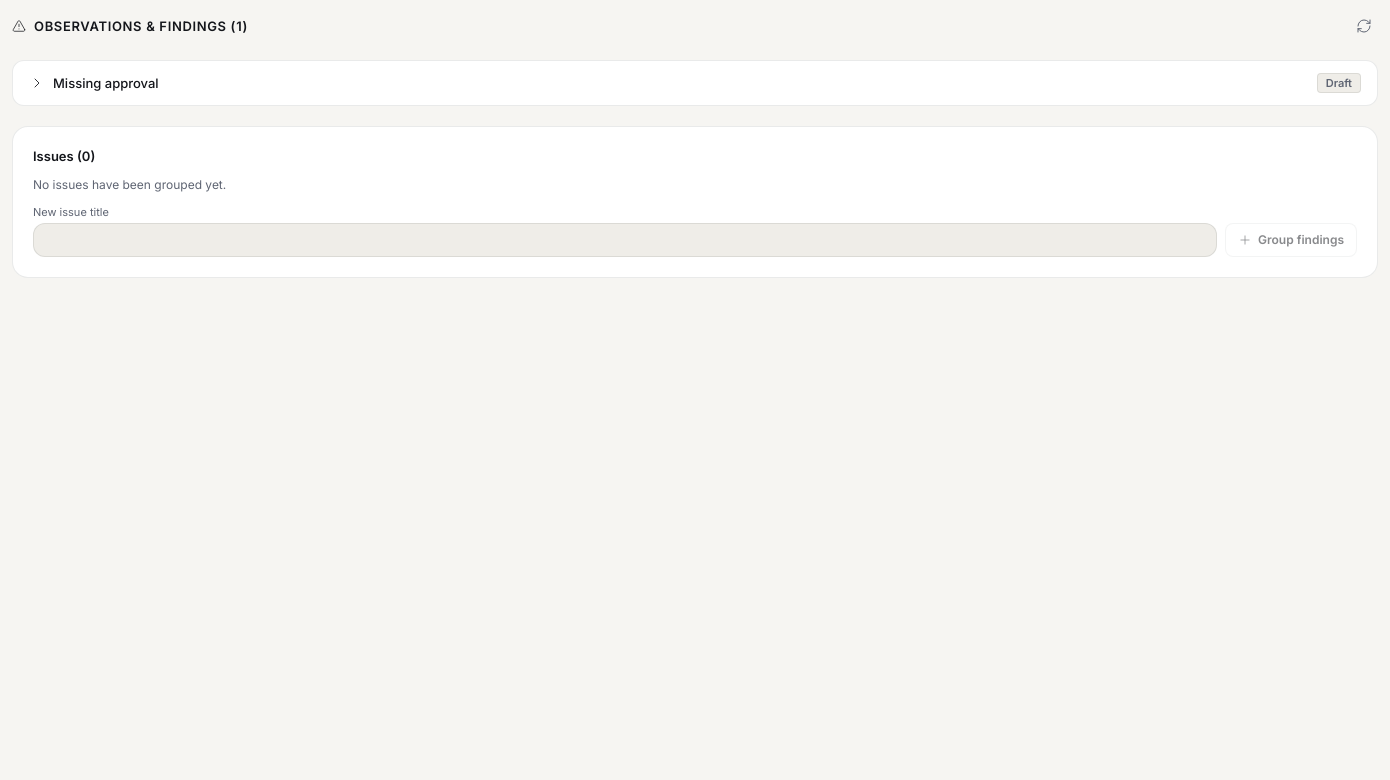
it: Phase 5 UI panels (5G) › FindingsPanel › disables promote with an inline list of missing sections
Step 1. Click the button "Missing approval draft" → (106, 83), box [13,61,1377,105]
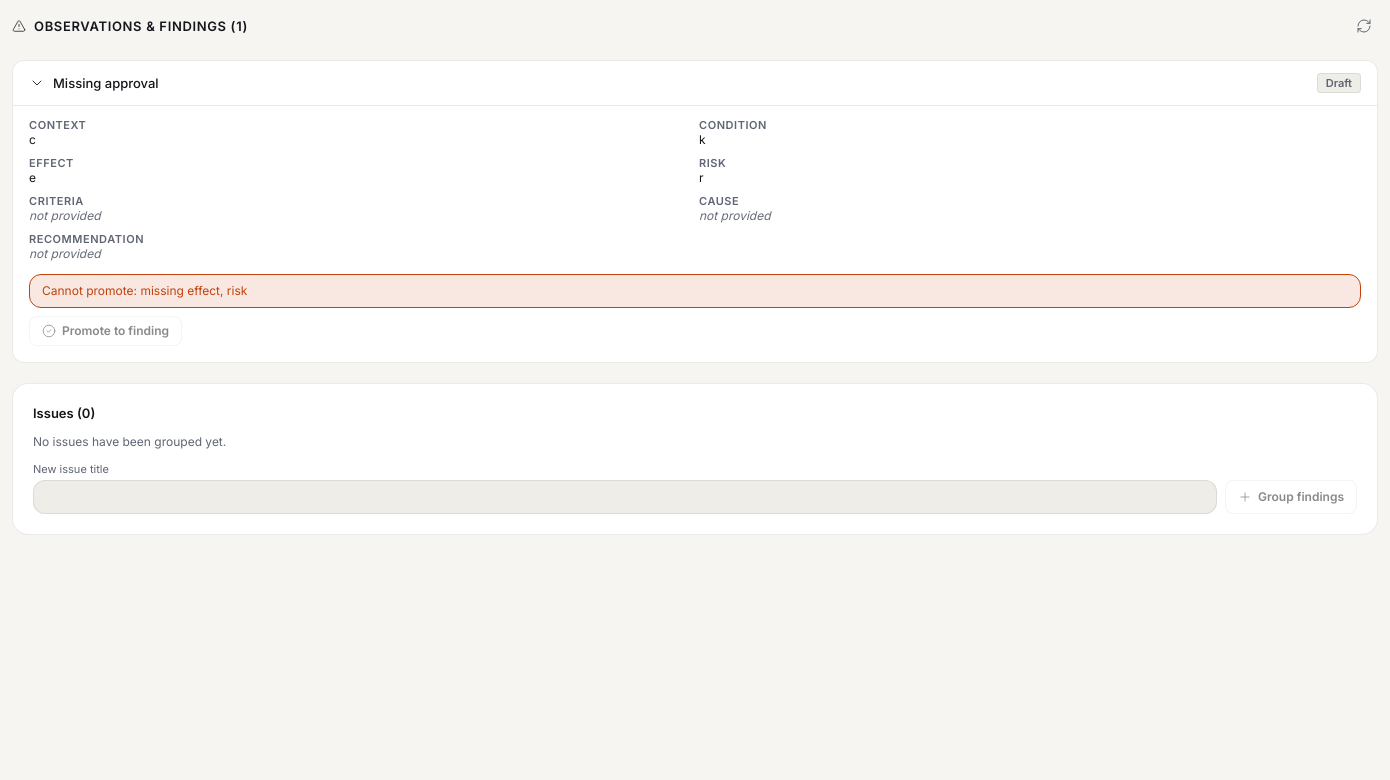
Result: the text "Cannot promote: missing effect, risk" is shown at [29,274,1361,308]
Result: the button with test id "observation-promote-o1" is disabled at [29,316,182,346]
